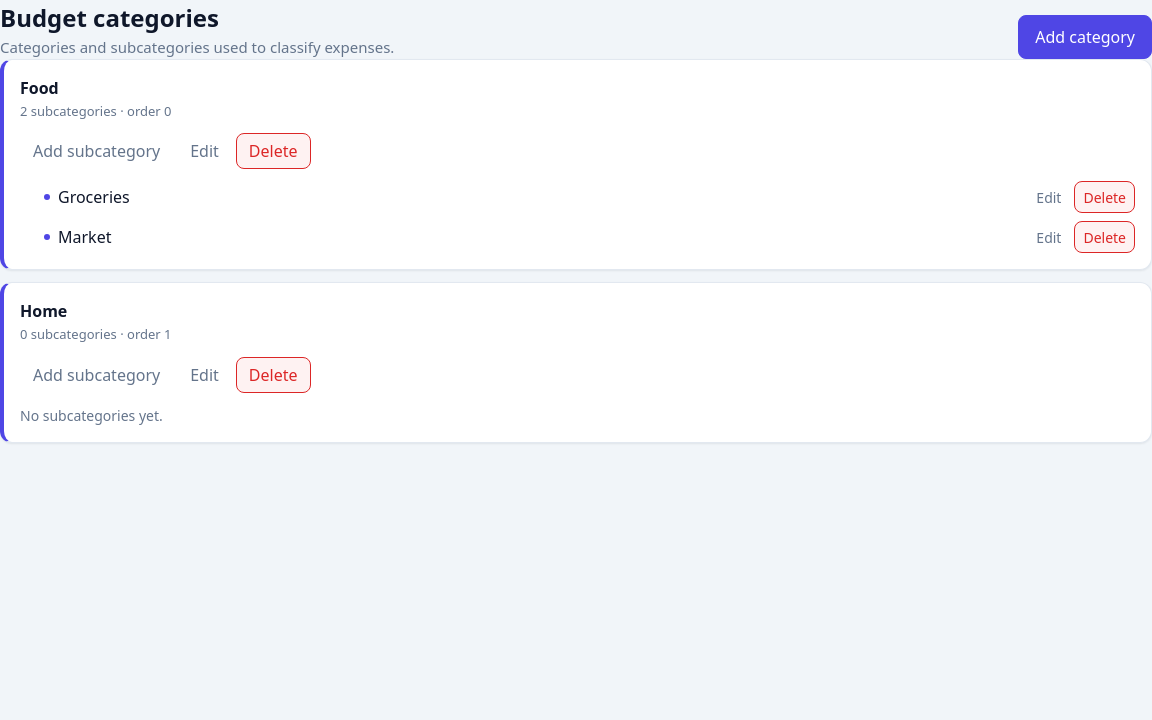
Test: BudgetCategoriesSettingsPage › confirms the deletion of a single subcategory
Click the button "Delete" in the row of "Groceries".
click(1105, 197)  # box [1074,181,1135,213]
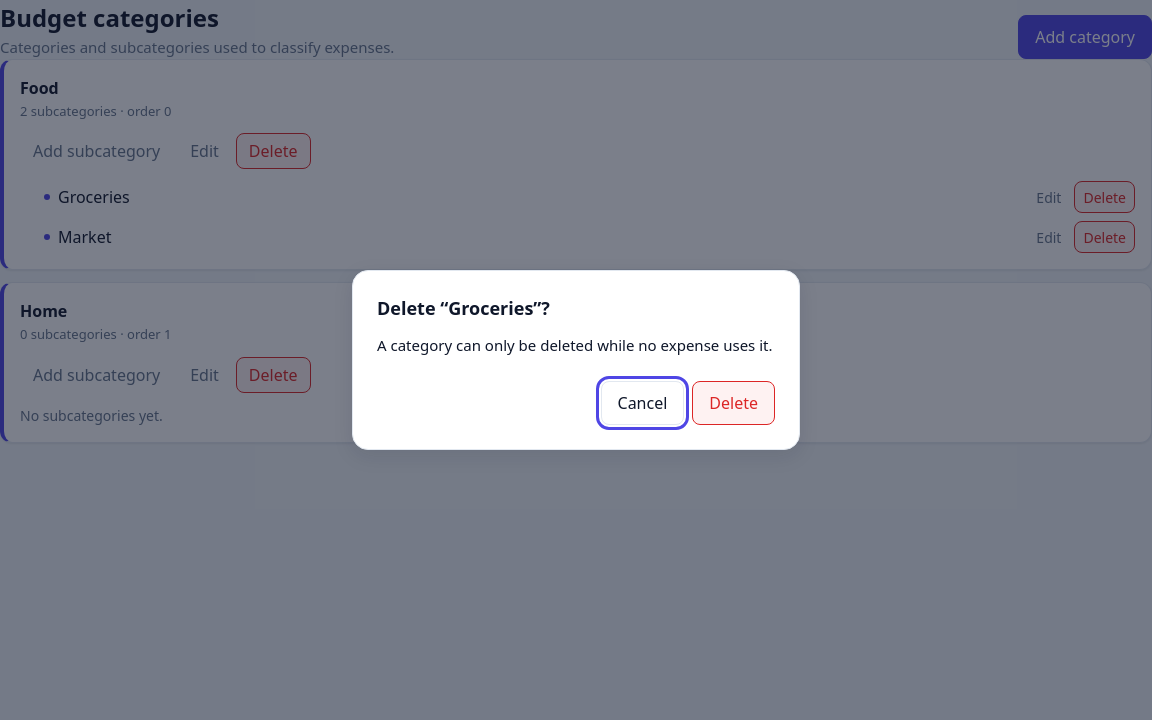
Expected: the dialog "Delete “Groceries”?" is shown, [352,270,800,450]
